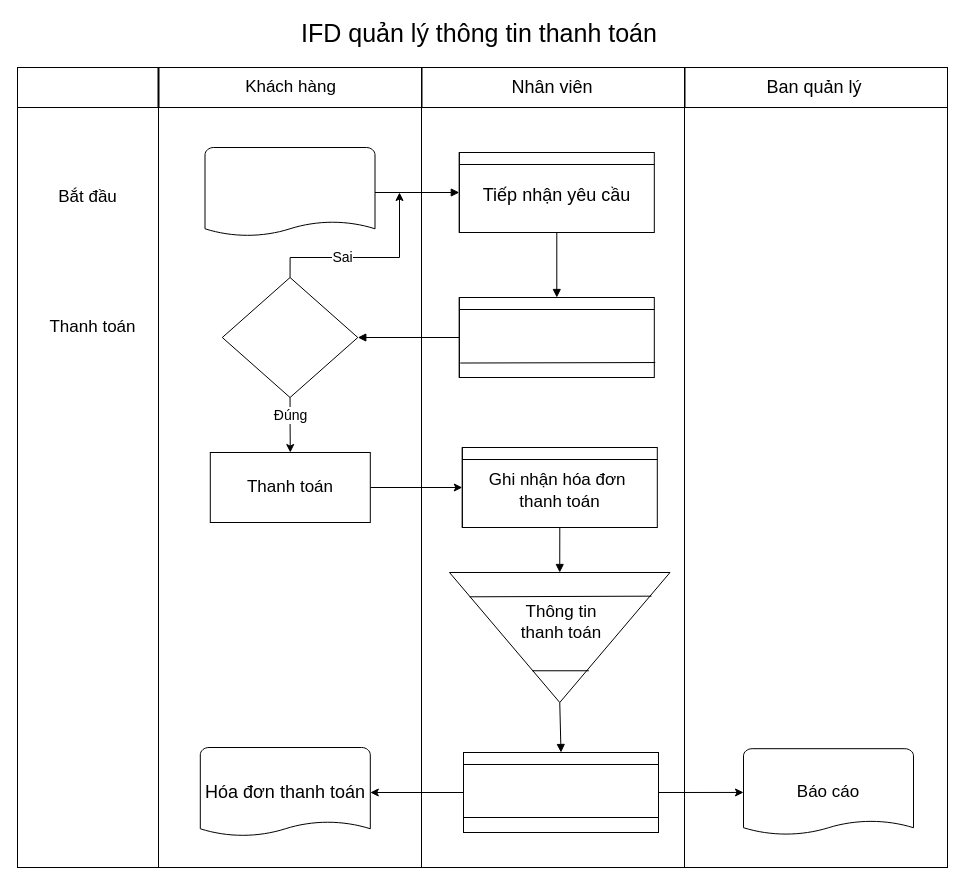
This 965x885 diagram has some shape labels left out. Each missing label, with the box of its shape:
In hóa đơn cuối: (462, 752, 658, 832)
Lập hóa đơn: (458, 296, 654, 378)
Thời gian: (16, 66, 158, 108)
Xác nhận hóa đơn: (221, 276, 358, 398)
Yêu cầu thanh toán: (204, 146, 375, 238)
